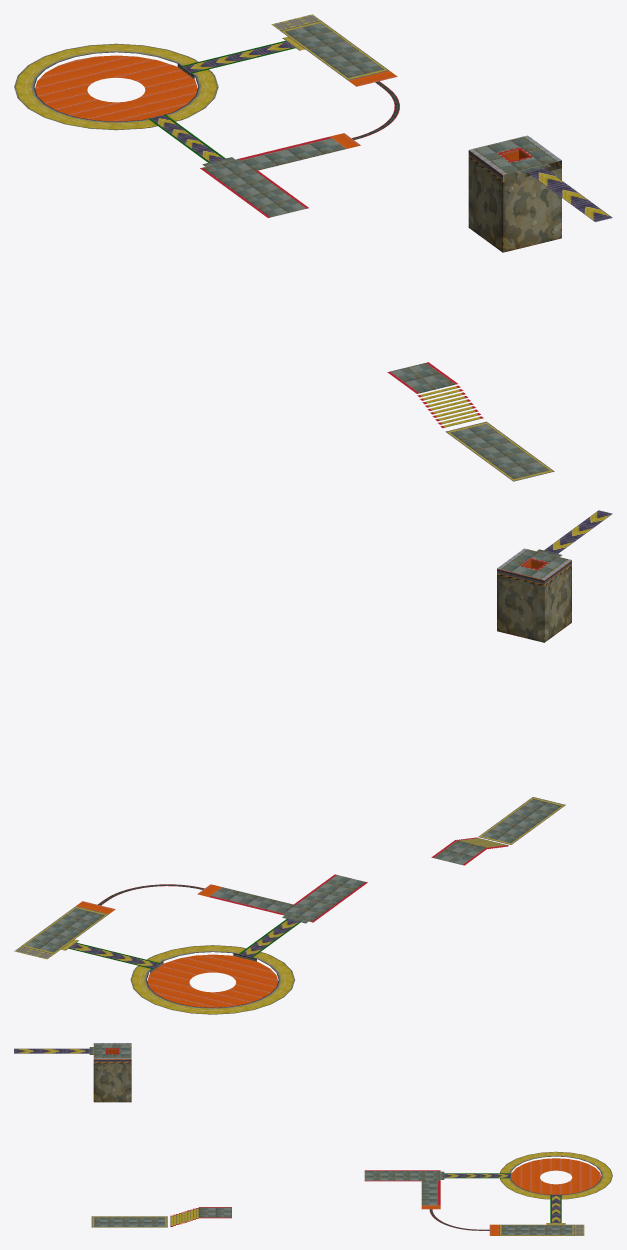
The model's file is STG08_ONS_19.obj.
The picture shows the model from 3 angles, top to bottom: view 1: azimuth 30°, elevation 25°; view 2: azimuth 150°, elevation 25°; view 3: azimuth 270°, elevation 25°; orthographic projection. The views are drawn at different scales.
Visible parts, largest first — view 1: Object_2; view 2: Object_2; view 3: Object_2.
Part boxes in pixels (box(x1,y1,x2,y2)): Object_2: box(14, 14, 612, 481); Object_2: box(14, 510, 612, 1014); Object_2: box(14, 1043, 612, 1235).
Bounding box in the file's own units: 1050 × 995 × 3160.
Materials: 13 (13 with a texture image).
